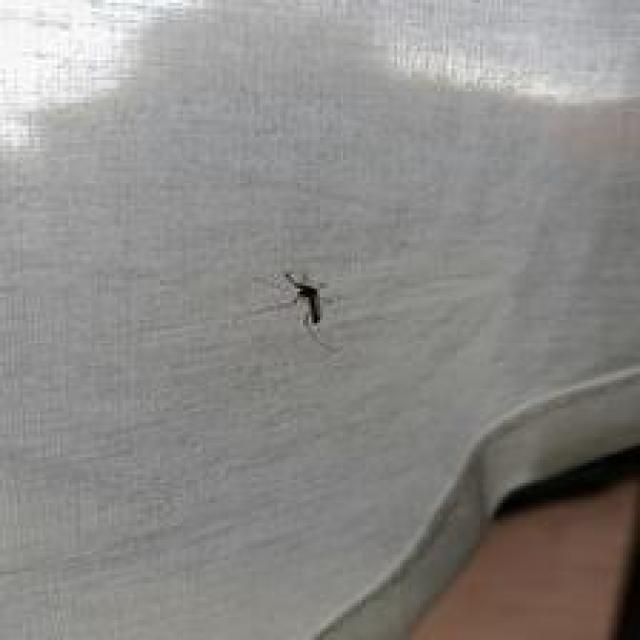Culex: (284, 270, 324, 327)
